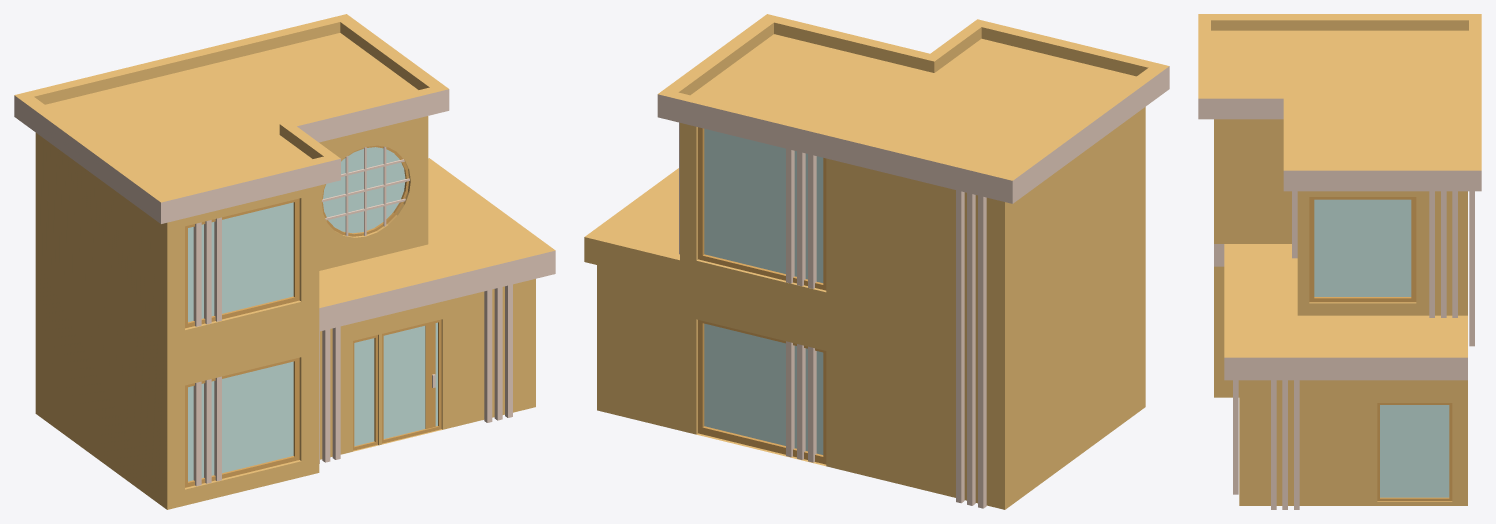
The model's file is Casa1.fbx.
3 renders of one model, left to right at view 1: azimuth 30°, elevation 25°; view 2: azimuth 150°, elevation 25°; view 3: azimuth 270°, elevation 25°, orthographic. The views are drawn at different scales.
Visible parts, largest first — view 1: yellow_house; view 2: yellow_house; view 3: yellow_house.
Boxes of the visible parts, x1,y1,x2,y2 form: yellow_house: (14,14,555,509); yellow_house: (584,14,1169,509); yellow_house: (1198,14,1481,509).
Size of the model in its own units: 930 by 692 by 579.
